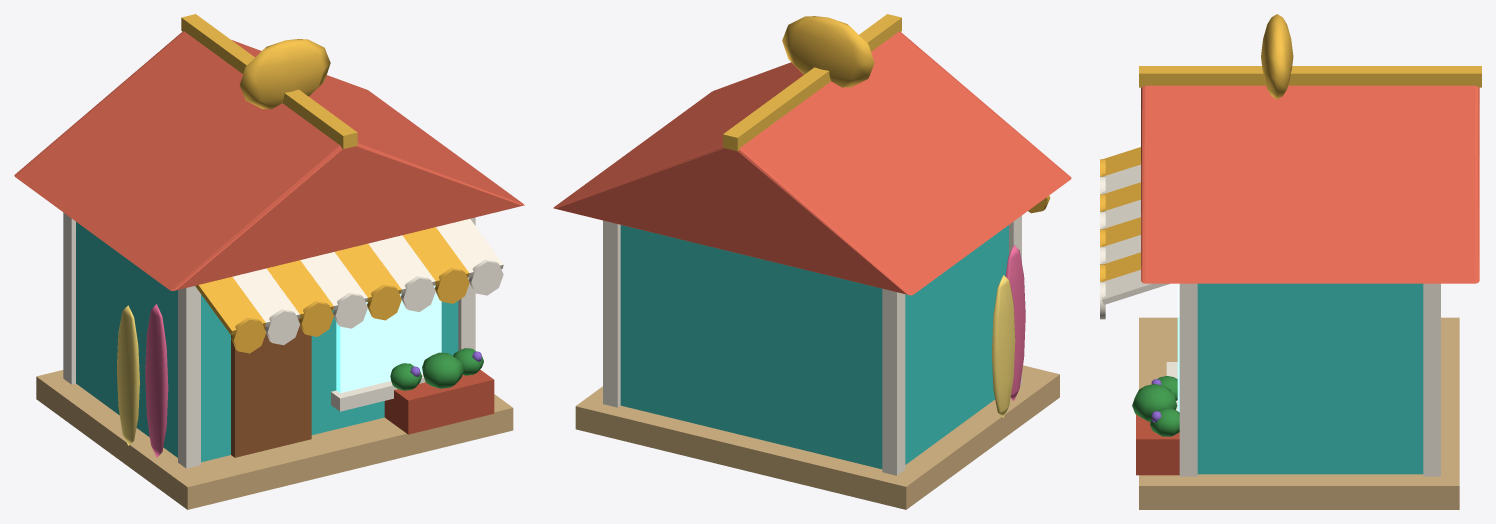
Rendered from souvenir-shop.glb.
3 views of the same model, side by side, from view 1: azimuth 30°, elevation 25°; view 2: azimuth 150°, elevation 25°; view 3: azimuth 270°, elevation 25° (orthographic). The views are drawn at different scales.
Visible parts, largest first — view 1: Mesh_coral, Mesh_turquoise, Mesh_warmWhite, Mesh_sandStone, Mesh_mango, Mesh_wood, Mesh_gold, Mesh_glowCyan, Mesh_terracotta, Mesh_flamingo, Mesh_banana, Mesh_leaf; view 2: Mesh_coral, Mesh_turquoise, Mesh_sandStone, Mesh_warmWhite, Mesh_gold, Mesh_banana, Mesh_flamingo; view 3: Mesh_coral, Mesh_turquoise, Mesh_sandStone, Mesh_warmWhite, Mesh_gold, Mesh_mango, Mesh_terracotta, Mesh_leaf.
Part boxes in pixels (left/top/right/bottom): Mesh_coral: left=14, top=31, right=524, bottom=290; Mesh_turquoise: left=76, top=222, right=458, bottom=462; Mesh_warmWhite: left=63, top=212, right=503, bottom=468; Mesh_sandStone: left=36, top=370, right=513, bottom=509; Mesh_mango: left=195, top=227, right=469, bottom=353; Mesh_wood: left=231, top=318, right=311, bottom=457; Mesh_gold: left=181, top=14, right=357, bottom=149; Mesh_glowCyan: left=336, top=285, right=441, bottom=393; Mesh_terracotta: left=384, top=369, right=494, bottom=434; Mesh_flamingo: left=145, top=304, right=168, bottom=457; Mesh_banana: left=117, top=305, right=139, bottom=445; Mesh_leaf: left=390, top=348, right=483, bottom=390; Mesh_coral: left=553, top=31, right=1071, bottom=295; Mesh_turquoise: left=620, top=225, right=1008, bottom=469; Mesh_sandStone: left=575, top=365, right=1059, bottom=509; Mesh_warmWhite: left=603, top=215, right=1021, bottom=475; Mesh_gold: left=723, top=14, right=901, bottom=151; Mesh_banana: left=992, top=275, right=1015, bottom=417; Mesh_flamingo: left=1005, top=245, right=1025, bottom=400; Mesh_coral: left=1141, top=85, right=1479, bottom=283; Mesh_turquoise: left=1197, top=283, right=1423, bottom=474; Mesh_sandStone: left=1139, top=317, right=1459, bottom=509; Mesh_warmWhite: left=1100, top=164, right=1440, bottom=476; Mesh_gold: left=1139, top=14, right=1481, bottom=99; Mesh_mango: left=1100, top=147, right=1140, bottom=281; Mesh_terracotta: left=1136, top=414, right=1179, bottom=475; Mesh_leaf: left=1132, top=376, right=1179, bottom=436.
Bounding box in the file's own units: 3.91 × 4.04 × 3.45.
